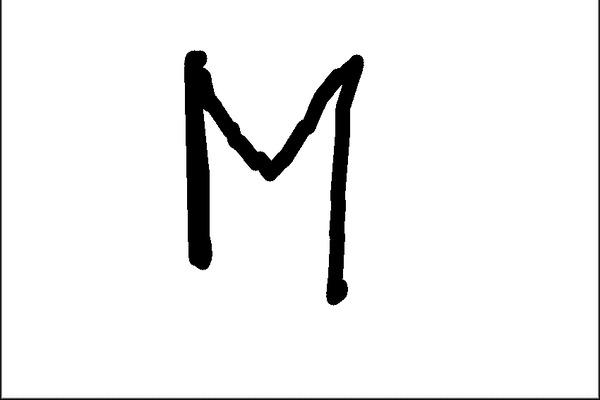M: (167, 38, 359, 308)
